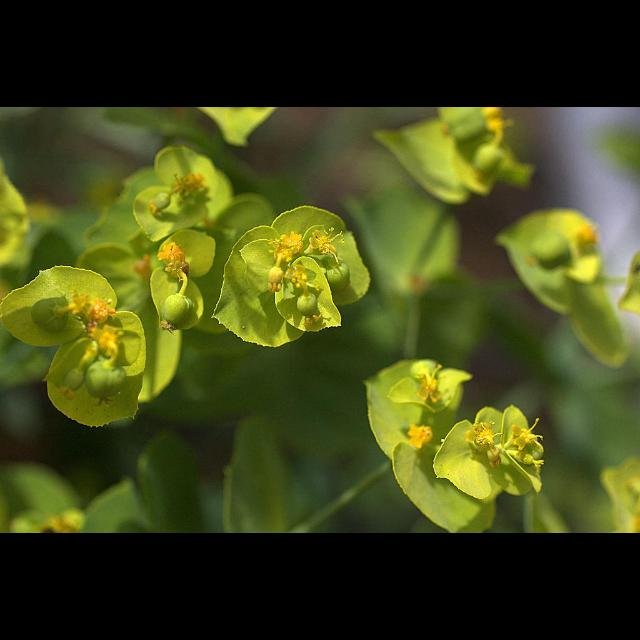Flower: (264, 230, 306, 290)
